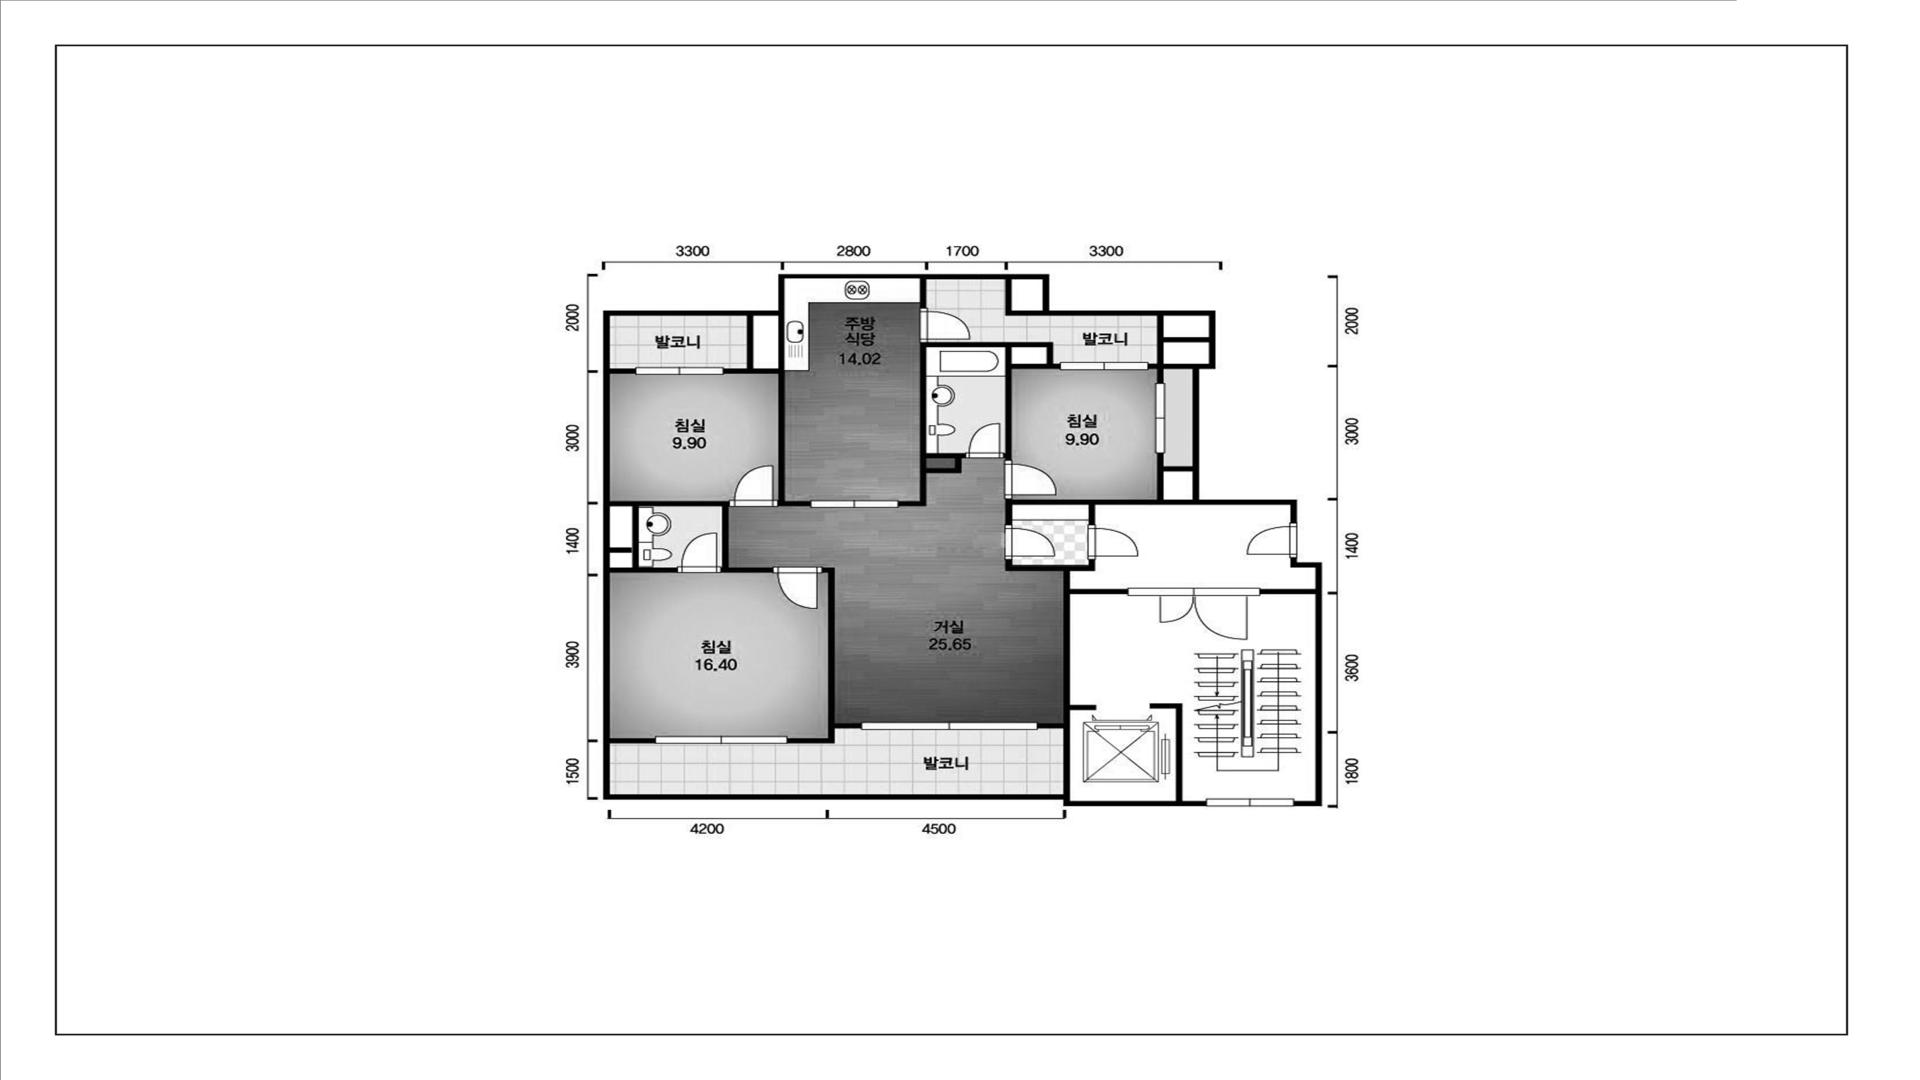door: (1127, 588, 1261, 641), (771, 567, 823, 609), (728, 464, 778, 506), (1004, 460, 1058, 498), (676, 533, 721, 574), (919, 307, 971, 343), (1246, 522, 1298, 558), (1088, 525, 1139, 560), (1005, 525, 1056, 559), (965, 423, 1004, 458), (1154, 384, 1166, 454), (810, 500, 899, 508)
wall: (603, 274, 1298, 807), (899, 342, 1013, 506), (724, 315, 810, 506), (787, 567, 861, 744), (611, 501, 771, 574), (1291, 558, 1323, 806), (1149, 316, 1209, 384), (1150, 703, 1183, 800), (1005, 498, 1088, 525), (1156, 454, 1192, 500), (1005, 280, 1043, 316), (1011, 342, 1059, 369), (1005, 559, 1063, 571), (1071, 588, 1127, 595), (1261, 588, 1316, 595), (611, 738, 654, 744), (919, 280, 926, 307), (1071, 704, 1096, 711), (1038, 723, 1063, 729), (611, 368, 634, 375)
window: (861, 721, 1038, 731), (655, 736, 787, 744), (1059, 361, 1149, 371), (634, 367, 724, 376), (1207, 798, 1294, 807)
